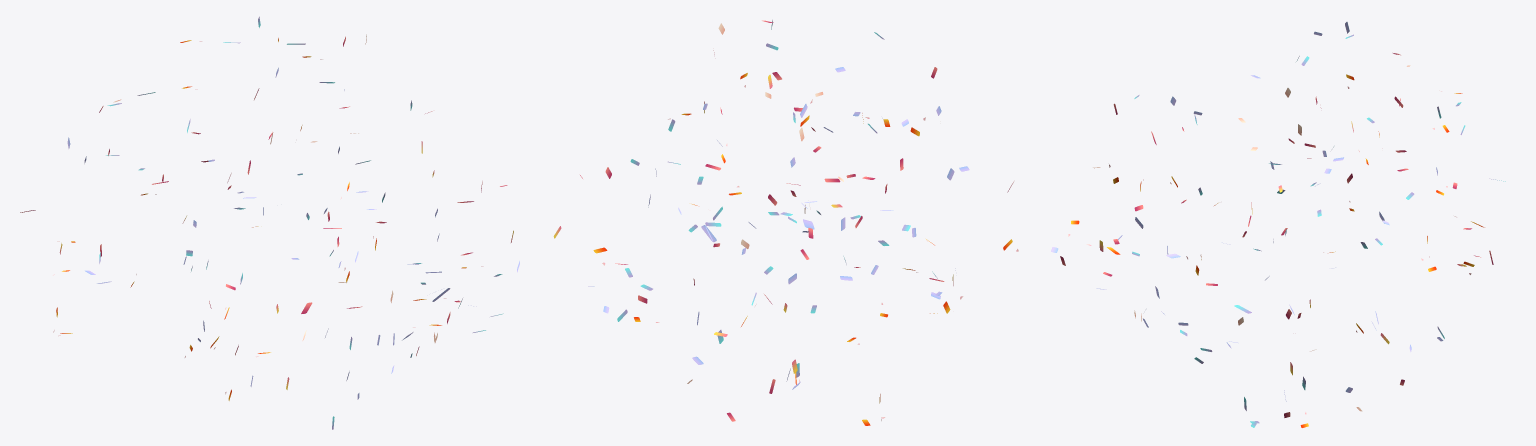
File: confetti.glb
The picture shows the model from 3 angles, left to right: view 1: azimuth 30°, elevation 25°; view 2: azimuth 150°, elevation 25°; view 3: azimuth 270°, elevation 25°; orthographic projection. The views are drawn at different scales.
Parts seen in each view (by area): view 1: confetti; view 2: confetti; view 3: confetti.
Part boxes in pixels (box(x1,y1,x2,y2)): confetti: box(20, 16, 519, 429); confetti: box(553, 20, 1018, 425); confetti: box(1051, 22, 1505, 427).
Size of the model in its own units: 41.07 by 33.76 by 40.09.
1 material, 1 textured.
